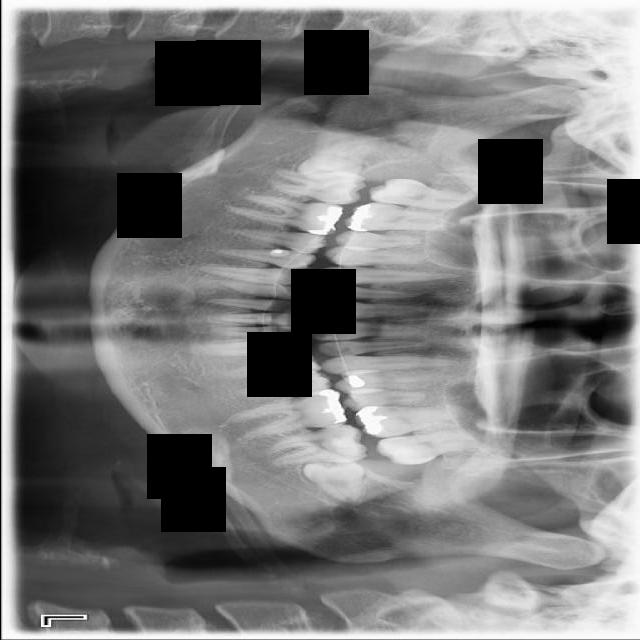52: (293, 384, 350, 437), (293, 194, 344, 240), (352, 405, 407, 437), (344, 202, 402, 232), (333, 368, 387, 397)
73: (58, 604, 72, 608)
BioHorizons Implant: (373, 427, 487, 469)
Biomet 3i Implant: (299, 458, 366, 504)
Blue Sky Bio Implant: (265, 422, 368, 467)
Caries: (363, 171, 479, 216)
Implant: (268, 167, 367, 207)
Keystone Dental Implant: (294, 140, 373, 183)
